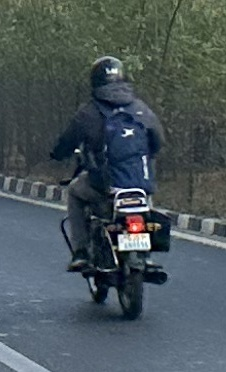BikeWithRider: (41, 52, 179, 325)
Helmet: (87, 57, 130, 94)
